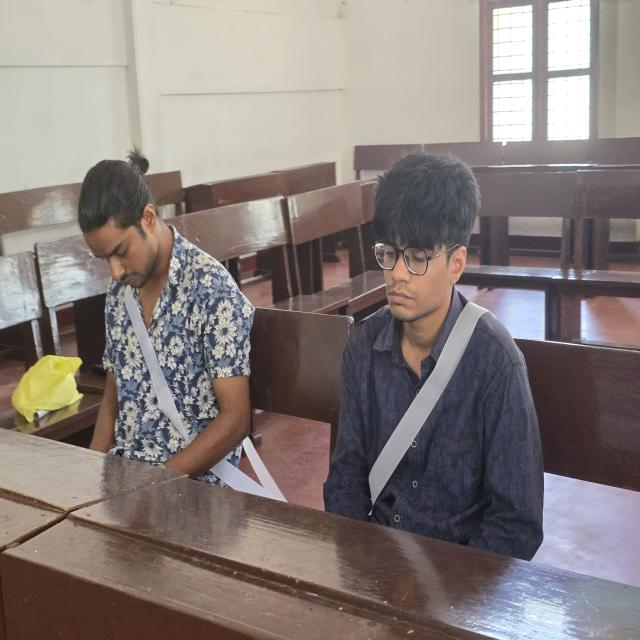seatbelt: (371, 298, 484, 528), (123, 273, 235, 489)
